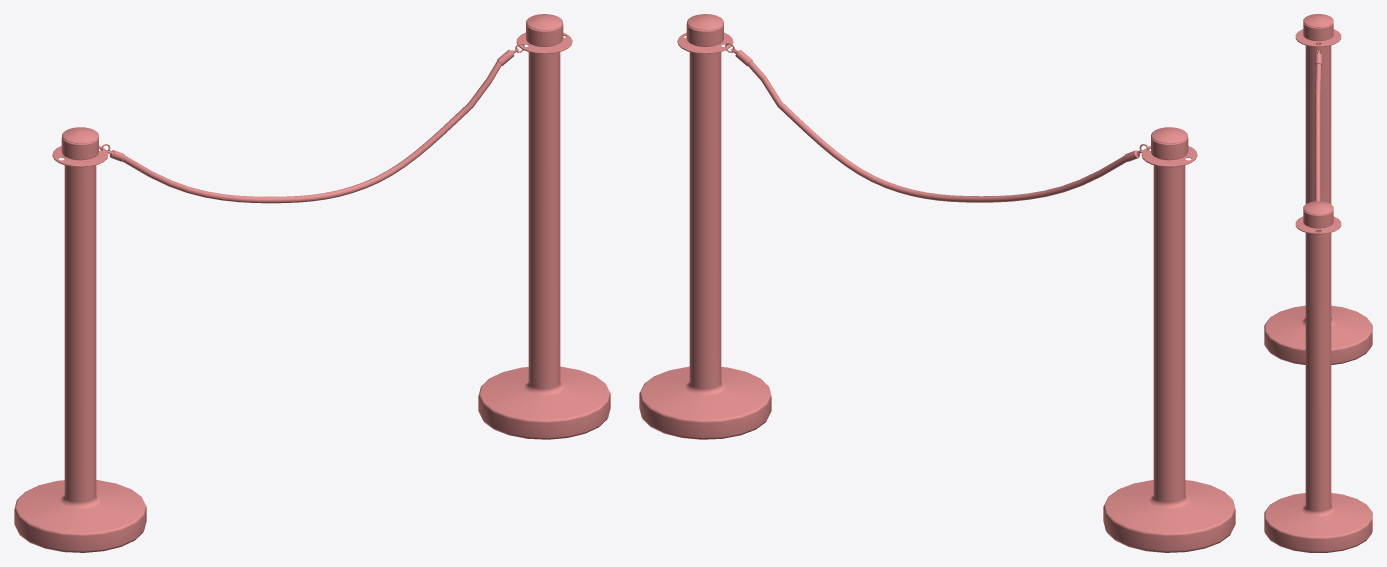
File: barrier_low.fbx
3 views of the same model, side by side, from view 1: azimuth 30°, elevation 25°; view 2: azimuth 150°, elevation 25°; view 3: azimuth 270°, elevation 25° (orthographic). The views are drawn at different scales.
Parts seen in each view (by area): view 1: Barrier_low; view 2: Barrier_low; view 3: Barrier_low.
Part boxes in pixels (x1,y1,x2,y2): Barrier_low: (14, 14, 610, 552); Barrier_low: (639, 14, 1235, 552); Barrier_low: (1264, 14, 1372, 552).
Bounding box in the file's own units: 15.91 × 10.41 × 3.12.
